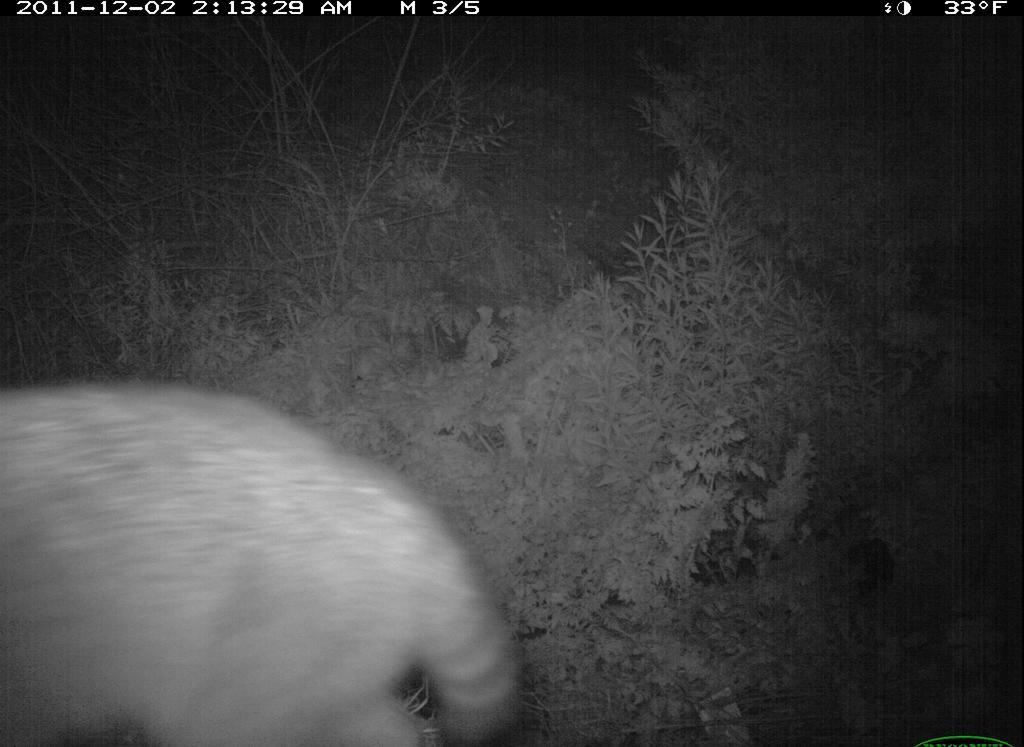raccoon: (1, 378, 529, 747)
